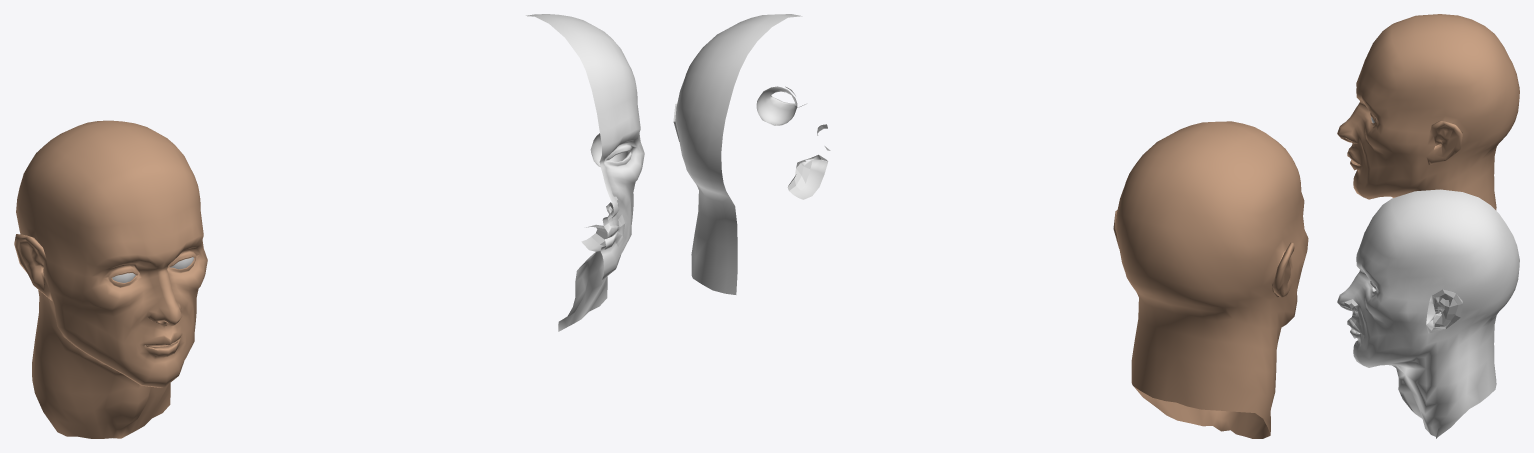
The model's file is shrink-head.glb.
3 views of the same model, side by side, from view 1: azimuth 30°, elevation 25°; view 2: azimuth 150°, elevation 25°; view 3: azimuth 270°, elevation 25° (orthographic). The views are drawn at different scales.
Parts seen in each view (by area): view 1: Cube, Cube.002; view 2: Cube, Cube.002; view 3: Cube.002, Cube.
Boxes of the visible parts, bbox=[...] form: Cube: bbox=[14, 120, 207, 438]; Cube.002: bbox=[526, 14, 644, 331]; Cube: bbox=[1113, 121, 1308, 438]; Cube.002: bbox=[673, 14, 830, 294]; Cube.002: bbox=[1337, 189, 1519, 438]; Cube: bbox=[1337, 14, 1519, 210].
Bounding box in the file's own units: 20.18 × 9.55 × 6.64.
